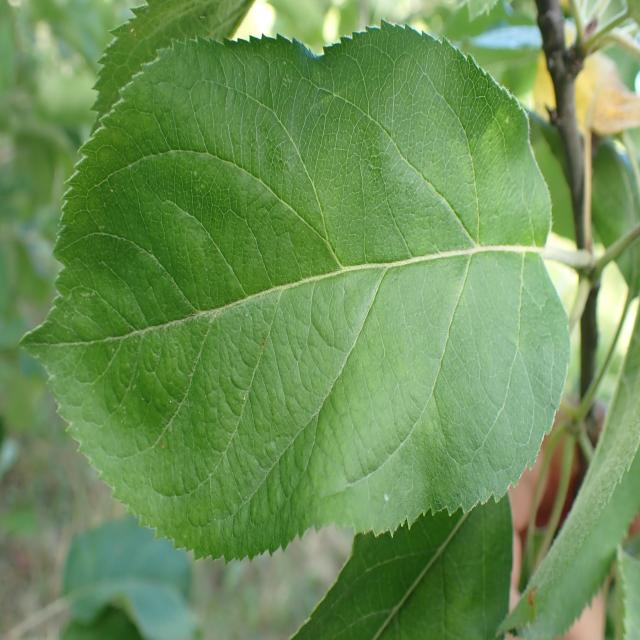healthy: (21, 20, 570, 563), (289, 488, 514, 640)
